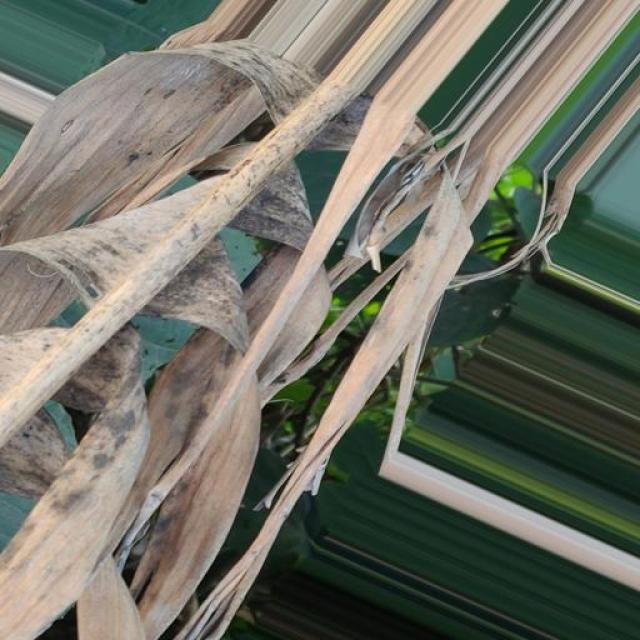Bract_mosaic_virus: (0, 166, 335, 640), (4, 0, 640, 226), (336, 228, 569, 474)
